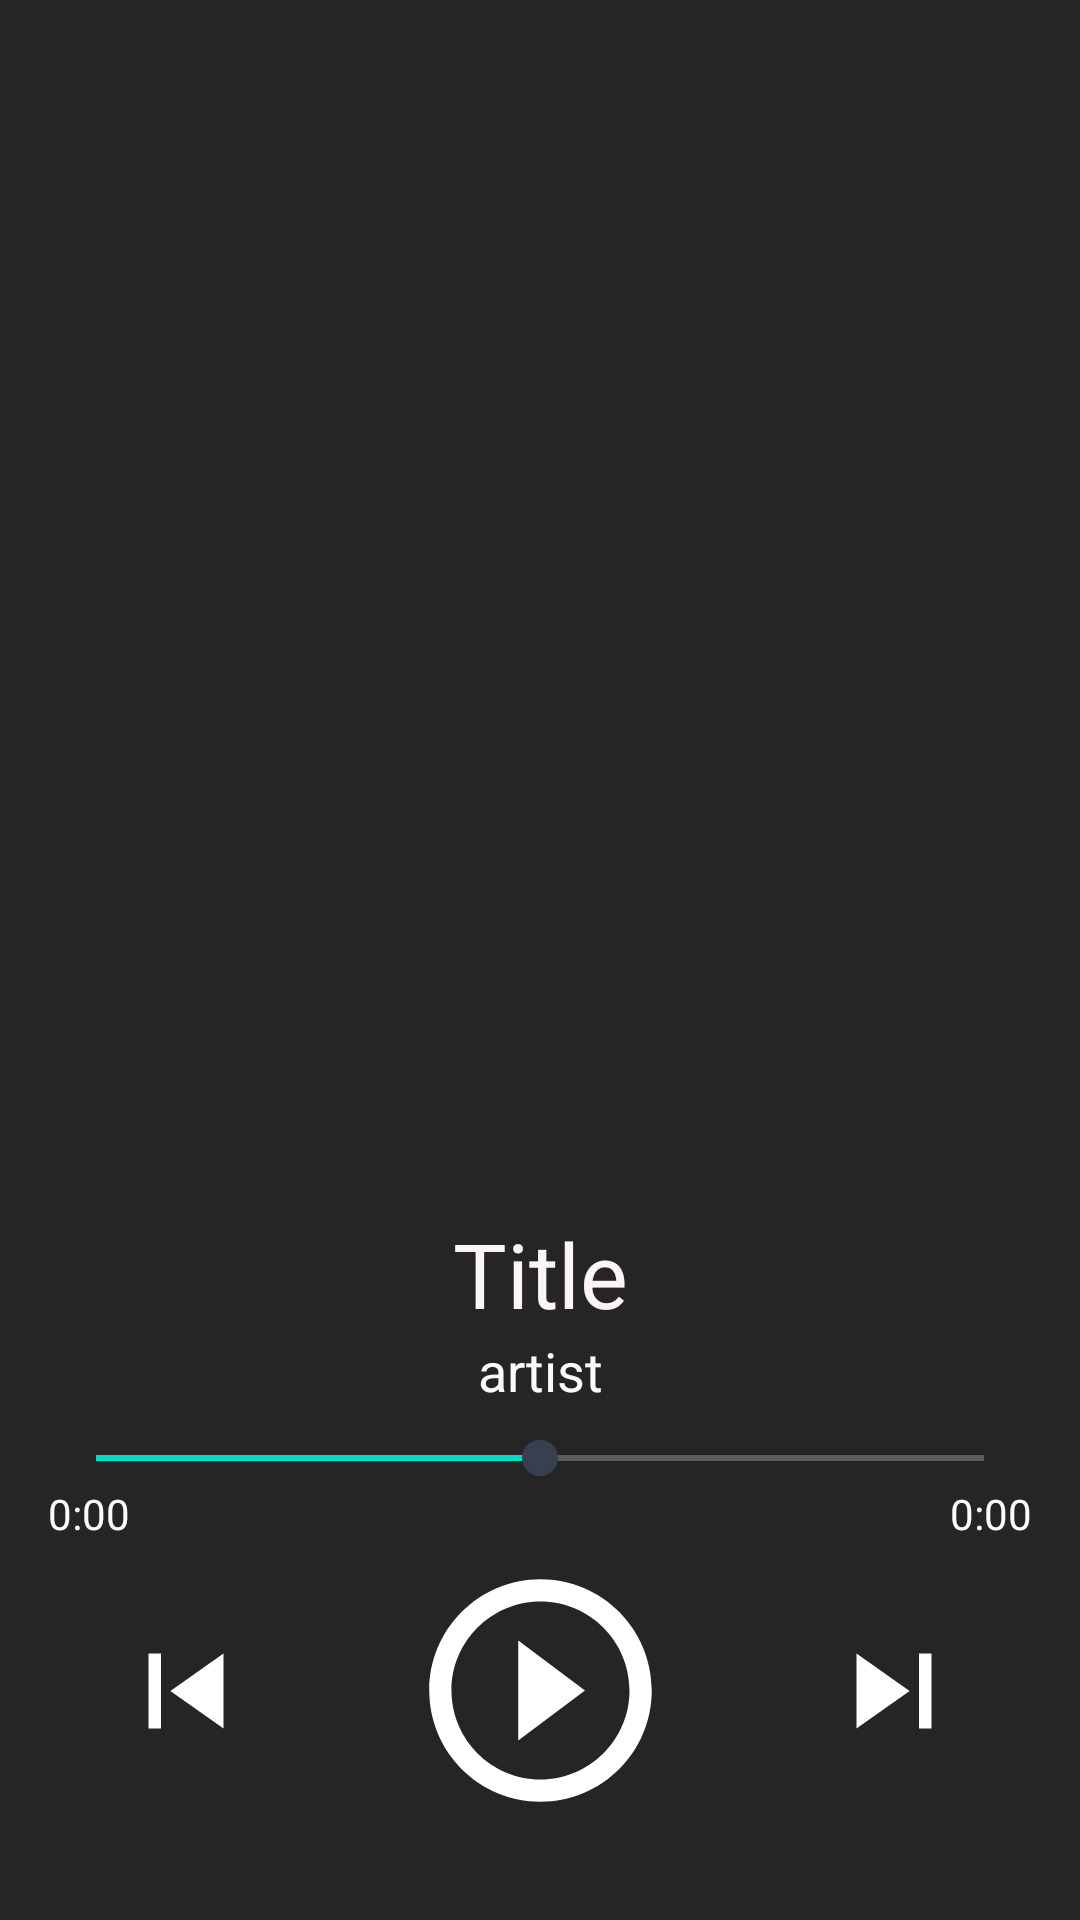

Screen size 1080px x 1920px. Icon name, then its center in pixels as point (x, y):
play circle: point (540, 1690)
skip next: point (894, 1691)
skip previous: point (186, 1691)
